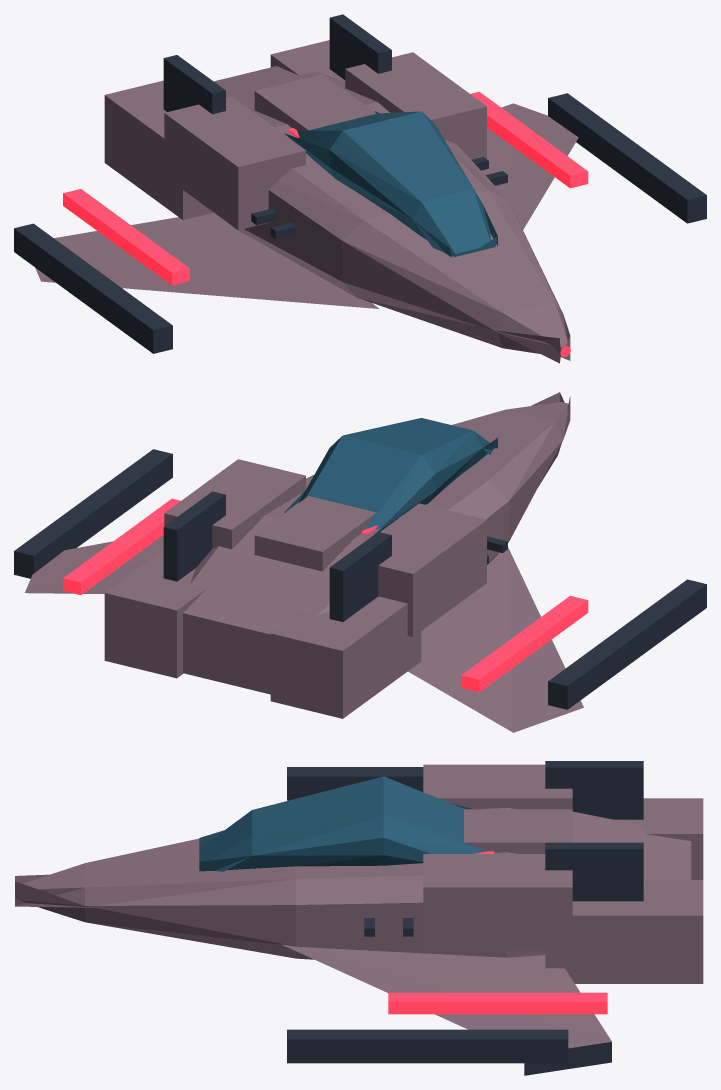
The model's file is siege_fighter.glb.
The picture shows the model from 3 angles, top to bottom: view 1: azimuth 30°, elevation 25°; view 2: azimuth 150°, elevation 25°; view 3: azimuth 270°, elevation 25°; orthographic projection.
Parts seen in each view (by area): view 1: Hull; view 2: Hull; view 3: Hull.
Part boxes in pixels (left/top/right/bottom): Hull: left=14, top=14, right=706, bottom=363; Hull: left=14, top=392, right=706, bottom=732; Hull: left=15, top=761, right=703, bottom=1075.
Bounding box in the file's own units: 3.67 × 0.92 × 3.95.
